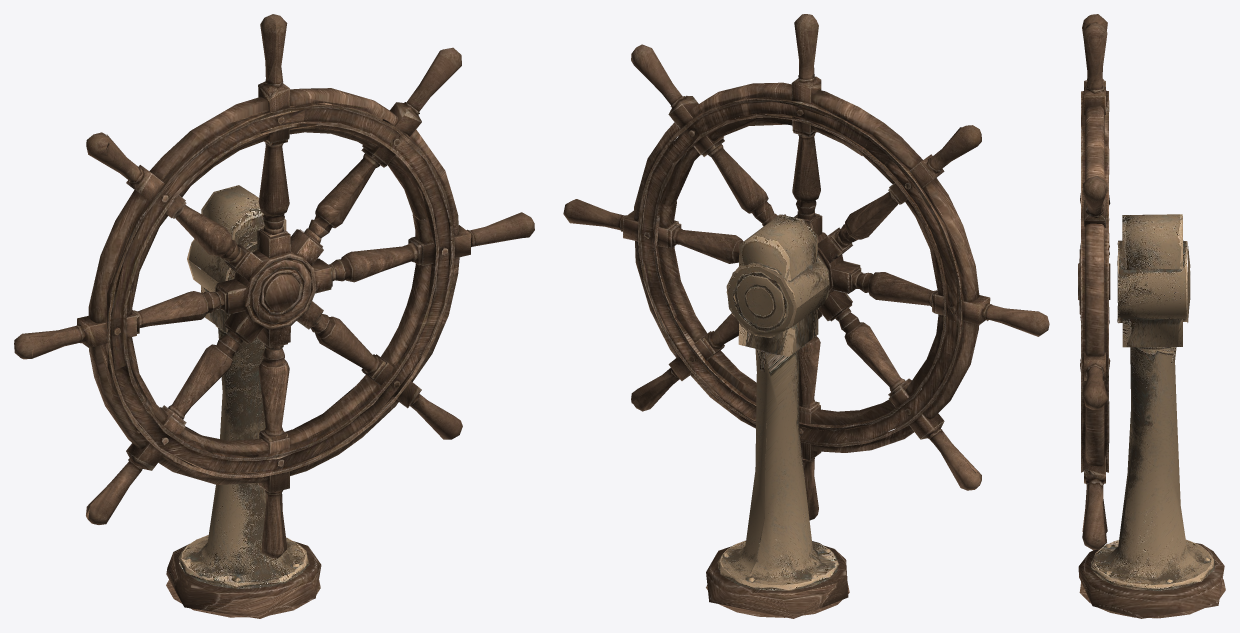
The model's file is ship_wheel.glb.
The picture shows the model from 3 angles, left to right: view 1: azimuth 30°, elevation 25°; view 2: azimuth 150°, elevation 25°; view 3: azimuth 270°, elevation 25°; orthographic projection. The views are drawn at different scales.
Visible parts, largest first — view 1: defaultMaterial.004, defaultMaterial.003, defaultMaterial.001, defaultMaterial; view 2: defaultMaterial.004, defaultMaterial.003, defaultMaterial.001, defaultMaterial; view 3: defaultMaterial.001, defaultMaterial.004, defaultMaterial.003, defaultMaterial.
Part boxes in pixels (bbox=[...]): defaultMaterial.004: bbox=[88, 88, 459, 484]; defaultMaterial.003: bbox=[14, 14, 534, 558]; defaultMaterial.001: bbox=[178, 185, 309, 589]; defaultMaterial: bbox=[166, 541, 321, 618]; defaultMaterial.004: bbox=[634, 82, 979, 452]; defaultMaterial.003: bbox=[563, 14, 1049, 520]; defaultMaterial.001: bbox=[717, 214, 839, 590]; defaultMaterial: bbox=[706, 545, 849, 618]; defaultMaterial.001: bbox=[1090, 214, 1214, 590]; defaultMaterial.004: bbox=[1078, 82, 1110, 472]; defaultMaterial.003: bbox=[1080, 14, 1110, 550]; defaultMaterial: bbox=[1078, 543, 1225, 618].
Size of the model in its own units: 148 by 162 by 38.51.
4 materials, 4 textured.
